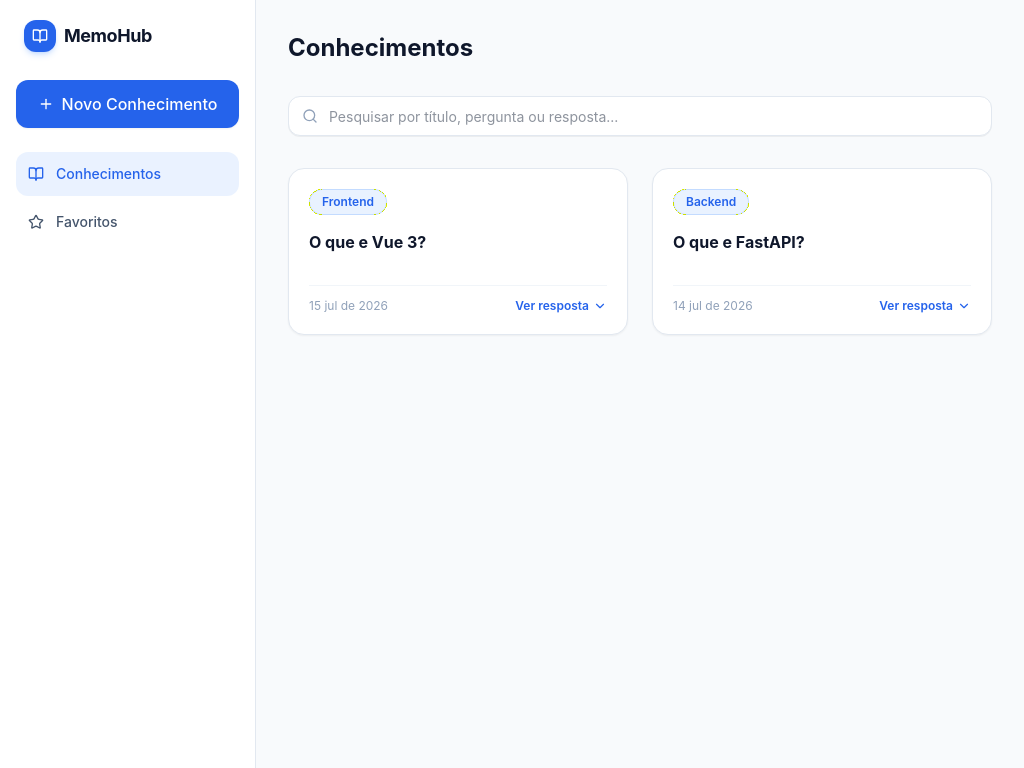
Test case: KnowledgeListView.vue (Integration) › deve disparar nova requisicao e filtrar os cards na tela ao digitar na busca
Type "FastAPI" into the field with placeholder "Pesquisar por título, pergunta ou resposta..." at (640, 116), box [288, 96, 992, 136]
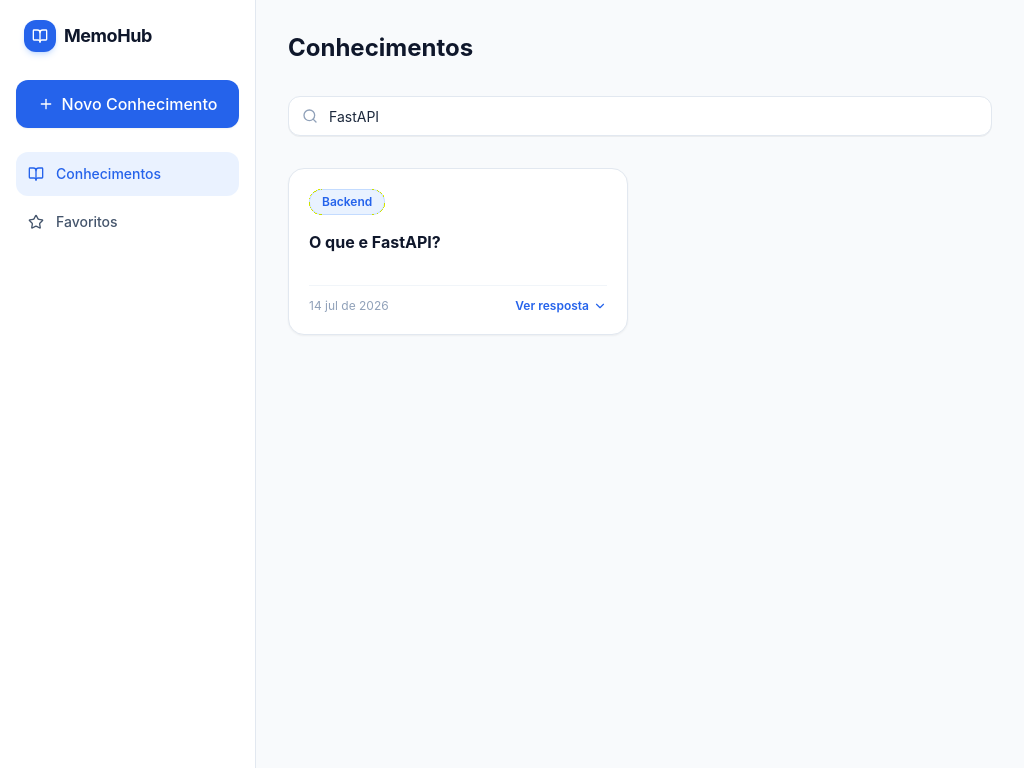
Expected: the text "O que e FastAPI?" is shown, [309, 232, 441, 252]
Result: the text "O que e Vue 3?" is gone
